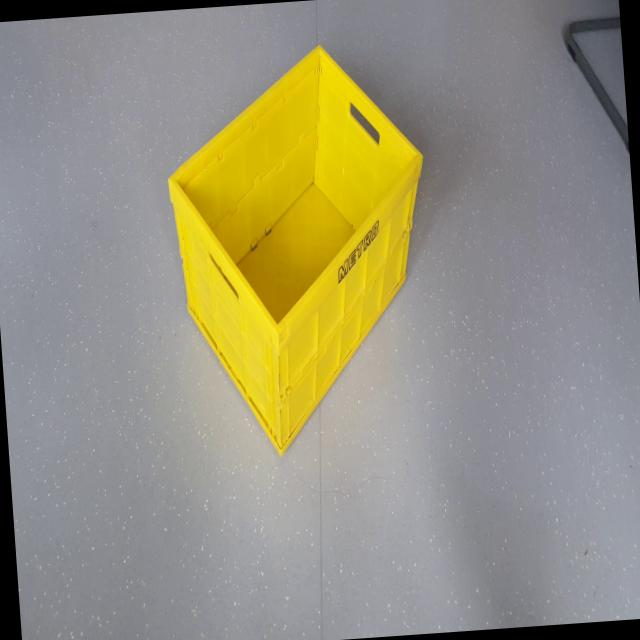box: (143, 26, 450, 492)
